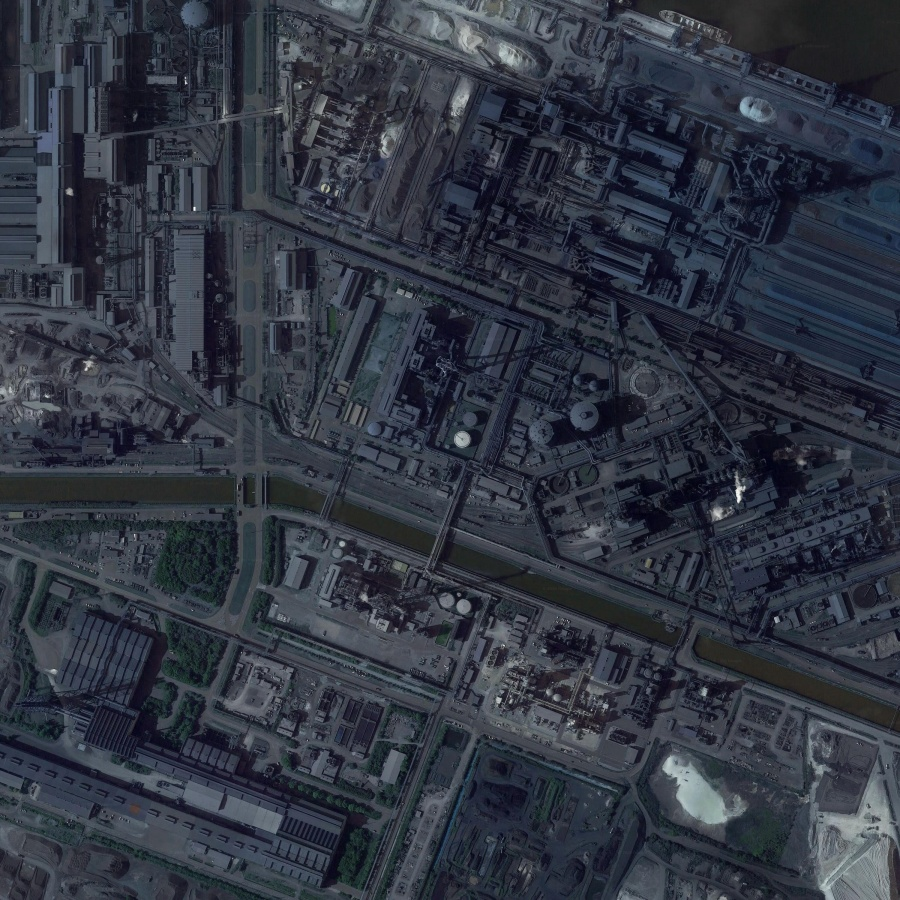PowerPlant: (250, 33, 891, 569)
